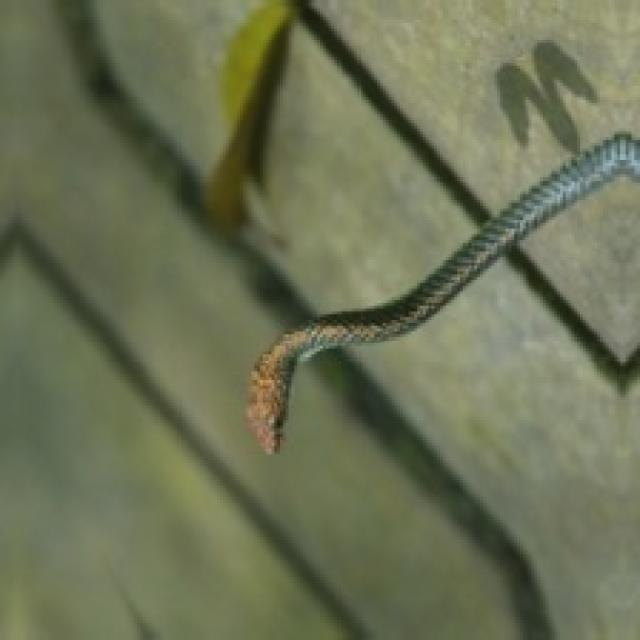paradise tree snake: (246, 134, 637, 451)
